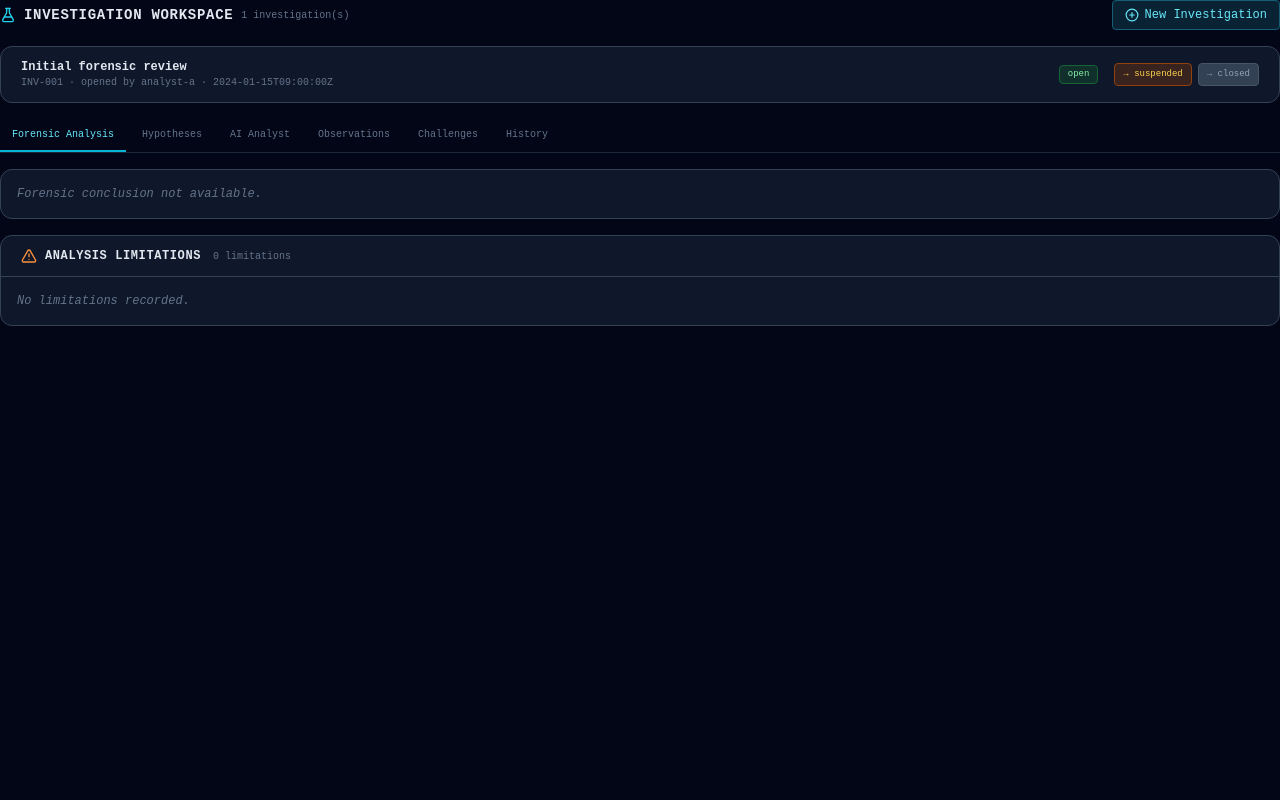
it: InvestigationWorkspace › shows new investigation form on button click
The width and height of the screenshot is (1280, 800).
Click the button with test id "new-investigation-btn" at [1196, 15], box [1112, 0, 1279, 30]
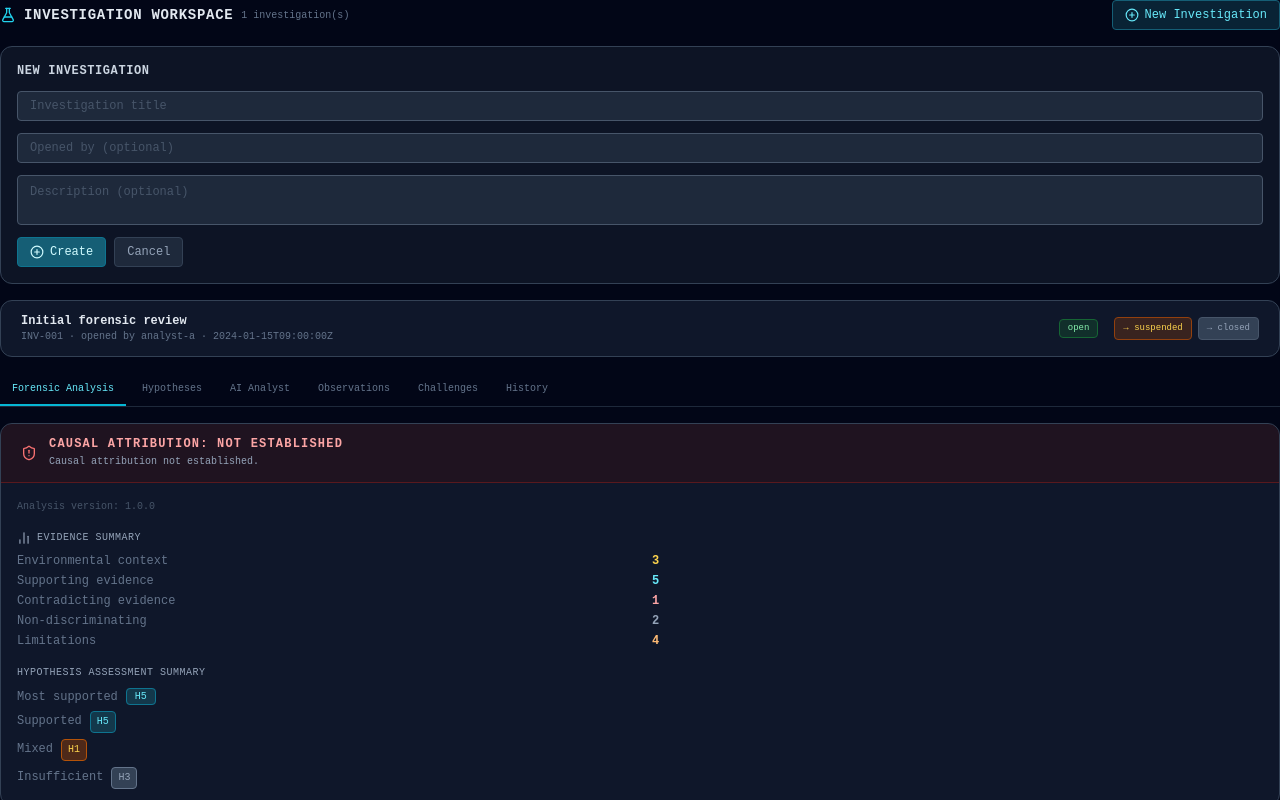
Check: the form with test id "new-investigation-form" is shown, box [0, 46, 1279, 284]
